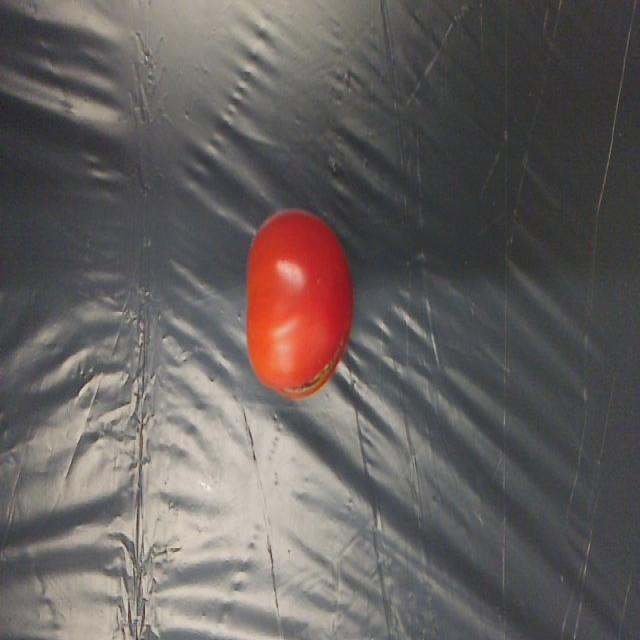kirmizi: (249, 196, 350, 417)
